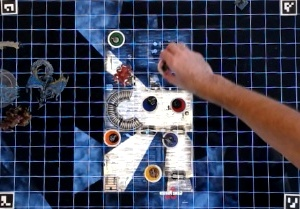blue: (139, 95, 159, 113)
green: (107, 29, 127, 49)
orange: (101, 126, 121, 145)
pink: (154, 56, 177, 79)
red: (170, 96, 187, 113)
violet: (160, 131, 179, 149)
yellow: (144, 161, 166, 184)
